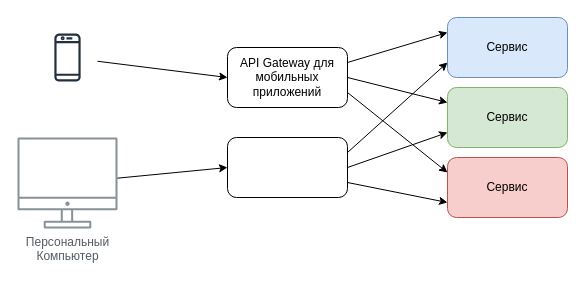
Some shapes in this 585 by 282 pixel diagram are drawn without their labels. Each missing label, with the box of its shape:
API Gateway для Desktop приложений: (226, 136, 348, 198)
Смартфон: (36, 26, 98, 88)
